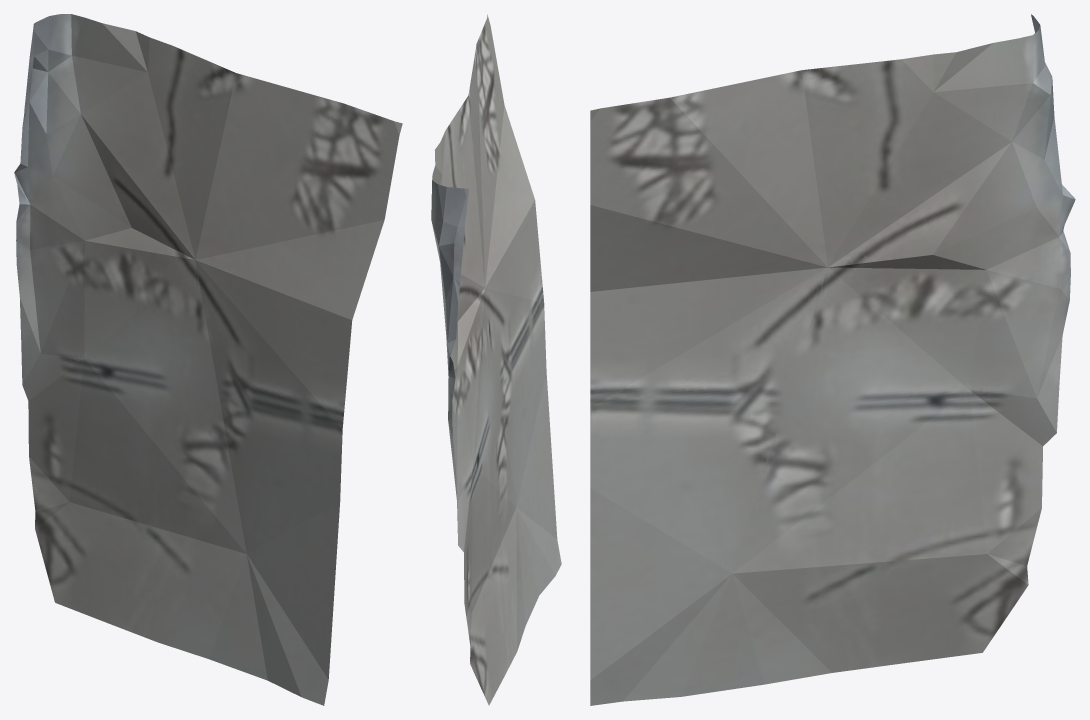
The picture shows the model from 3 angles, left to right: view 1: azimuth 30°, elevation 25°; view 2: azimuth 150°, elevation 25°; view 3: azimuth 270°, elevation 25°; orthographic projection. The views are drawn at different scales.
Size of the model in its own units: 0.5435 by 1.67 by 1.15.
Materials: 2 (2 with a texture image).
